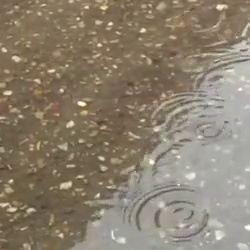drop: (125, 184, 210, 241), (191, 55, 250, 98), (134, 103, 168, 130), (196, 122, 222, 139), (181, 56, 205, 74)
